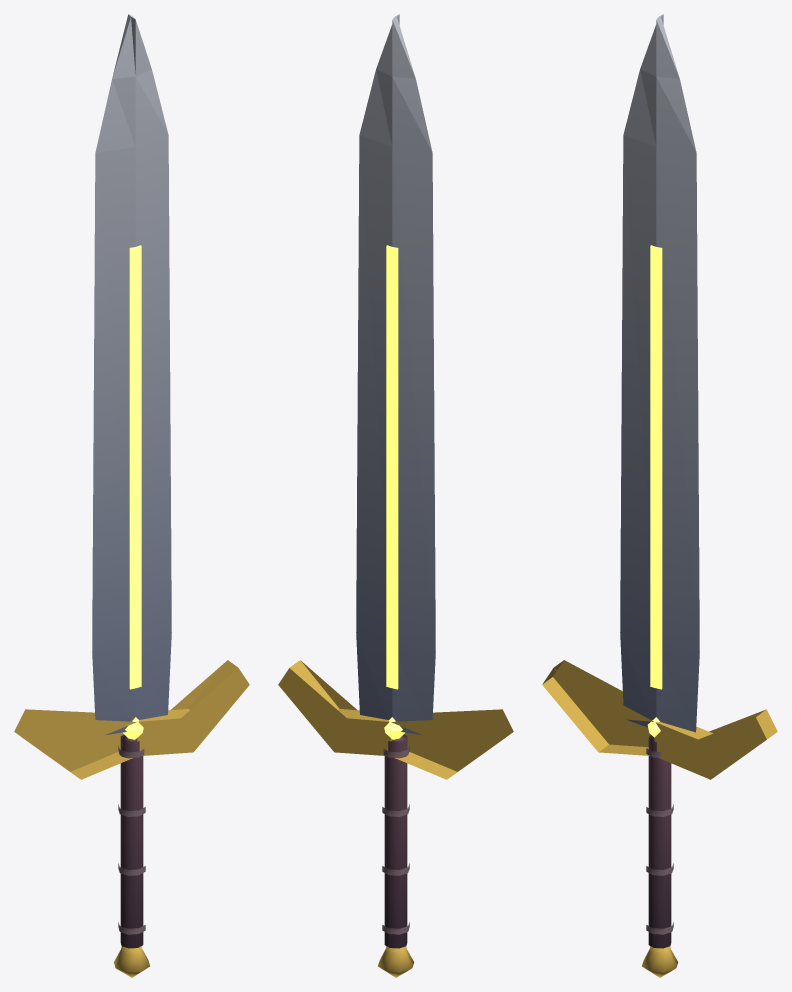
File: greatsword_sun.glb
The picture shows the model from 3 angles, left to right: view 1: azimuth 30°, elevation 25°; view 2: azimuth 150°, elevation 25°; view 3: azimuth 330°, elevation 25°; orthographic projection.
Parts seen in each view (by area): view 1: greatsword_sun; view 2: greatsword_sun; view 3: greatsword_sun.
Part boxes in pixels (left/top/right/bottom): greatsword_sun: left=14, top=14, right=249, bottom=977; greatsword_sun: left=278, top=14, right=513, bottom=977; greatsword_sun: left=542, top=14, right=777, bottom=977.
Bounding box in the file's own units: 0.48 × 1.96 × 0.0784.
